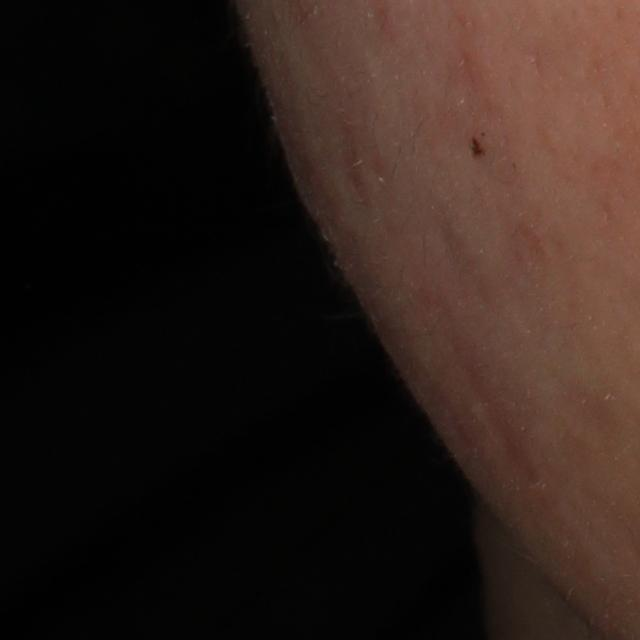nevus: (468, 136, 490, 161)
